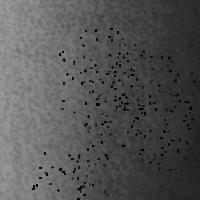pitted_surface: (26, 2, 188, 200), (116, 50, 175, 110), (84, 90, 144, 149), (59, 51, 116, 111), (135, 101, 192, 161), (80, 28, 140, 84), (32, 152, 91, 200), (59, 154, 111, 200), (158, 120, 200, 172), (166, 57, 200, 115)
